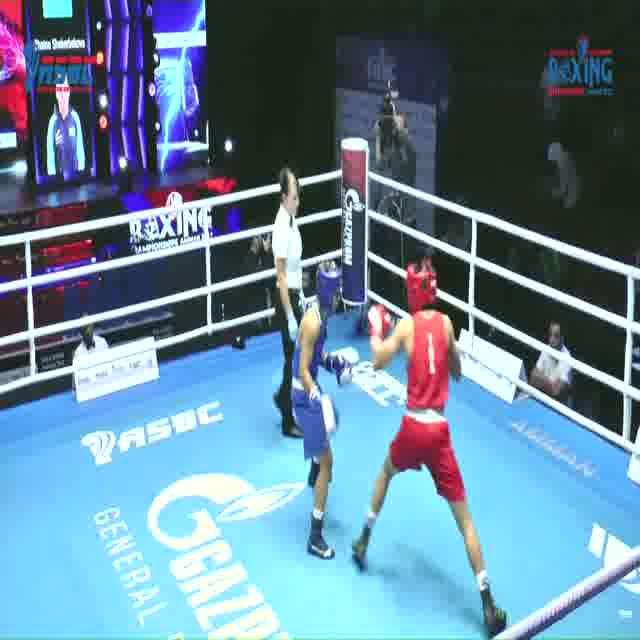blue-player: (290, 255, 354, 561)
red-player: (350, 253, 510, 640)
referee: (266, 166, 322, 441)
